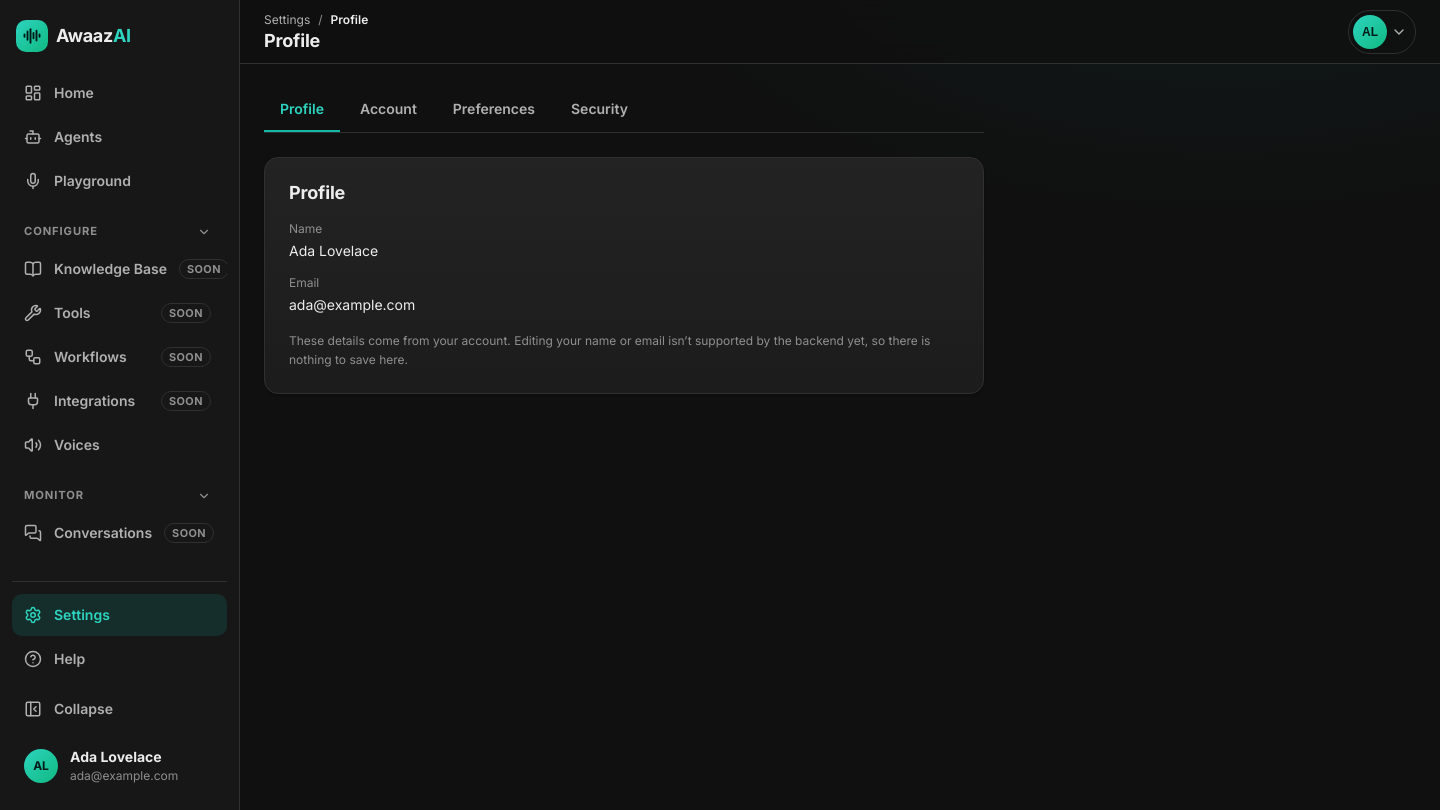
Test: settings › has Profile, Account, Preferences and Security pages reachable from the sub-navigation
The width and height of the screenshot is (1440, 810).
Click the link "Account" at (388, 109), box x1=360 y1=100 x2=417 y2=117
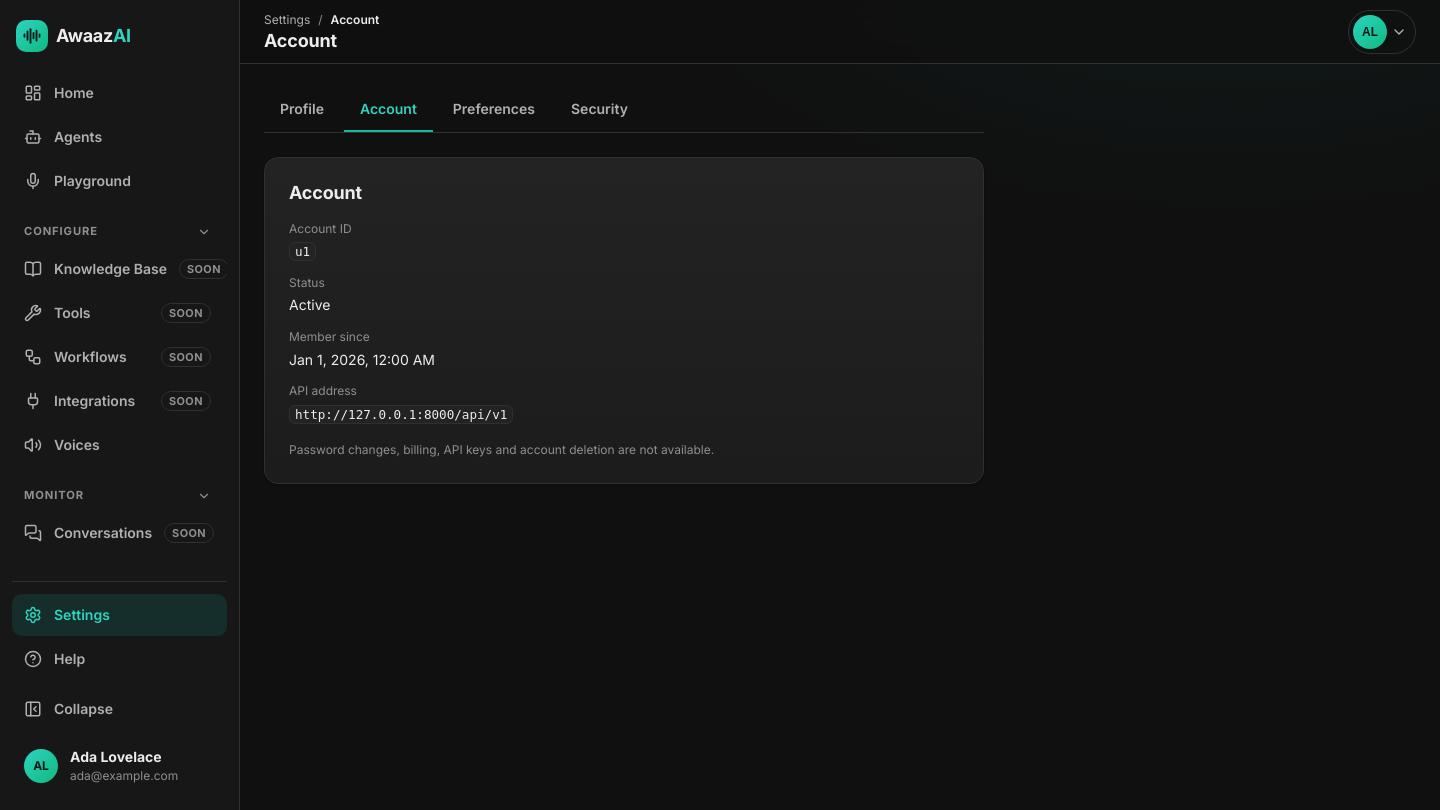
Check: the 1st heading "Account" is shown, box x1=264 y1=30 x2=337 y2=51
Click the link "Preferences" at (494, 109), box x1=453 y1=100 x2=535 y2=117
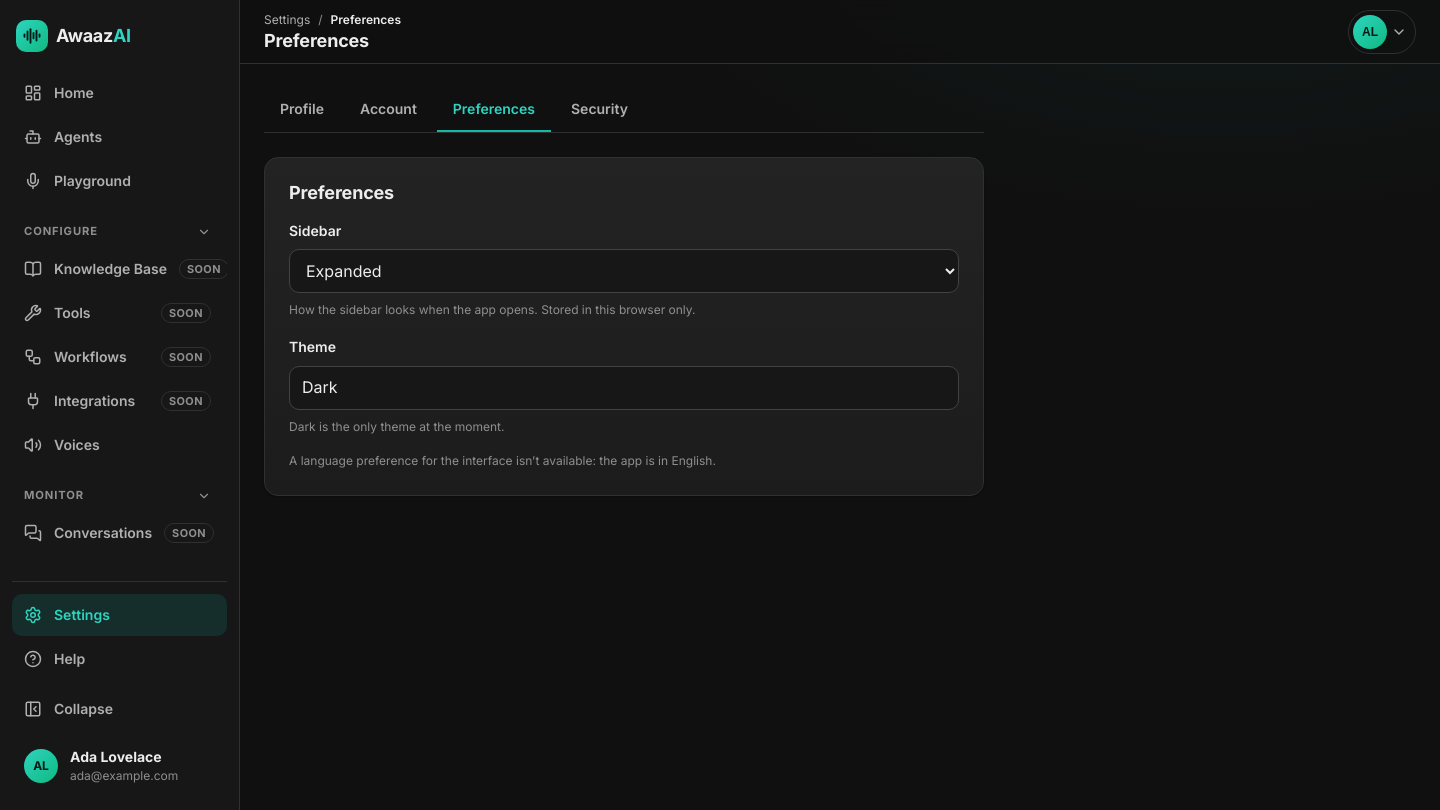
Check: the 1st heading "Preferences" is shown, box x1=264 y1=30 x2=369 y2=51
Click the link "Security" at (599, 109), box x1=571 y1=100 x2=628 y2=117
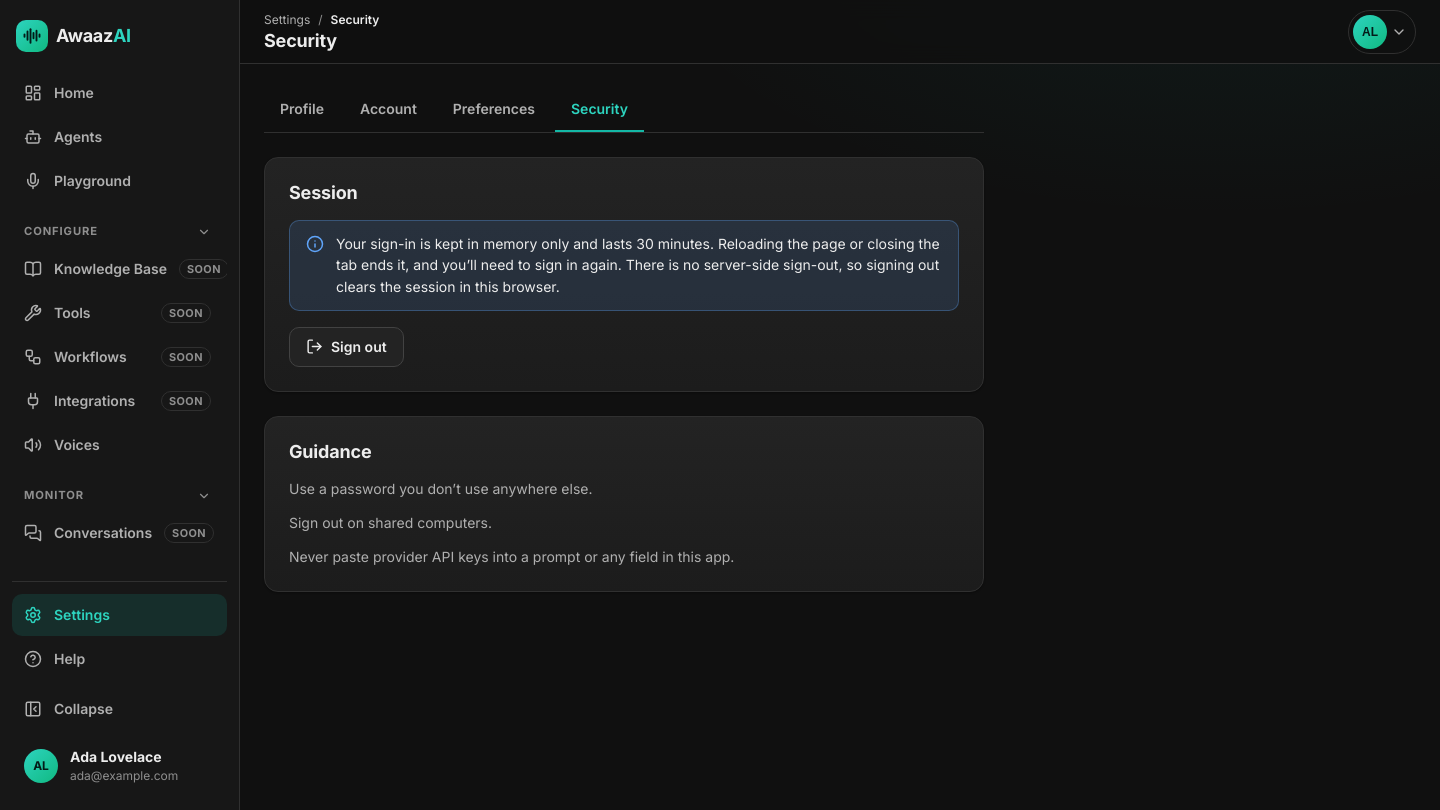
Check: the heading "Security" is shown, box x1=264 y1=30 x2=337 y2=51
Click the link "Profile" at (302, 109), box x1=280 y1=100 x2=324 y2=117
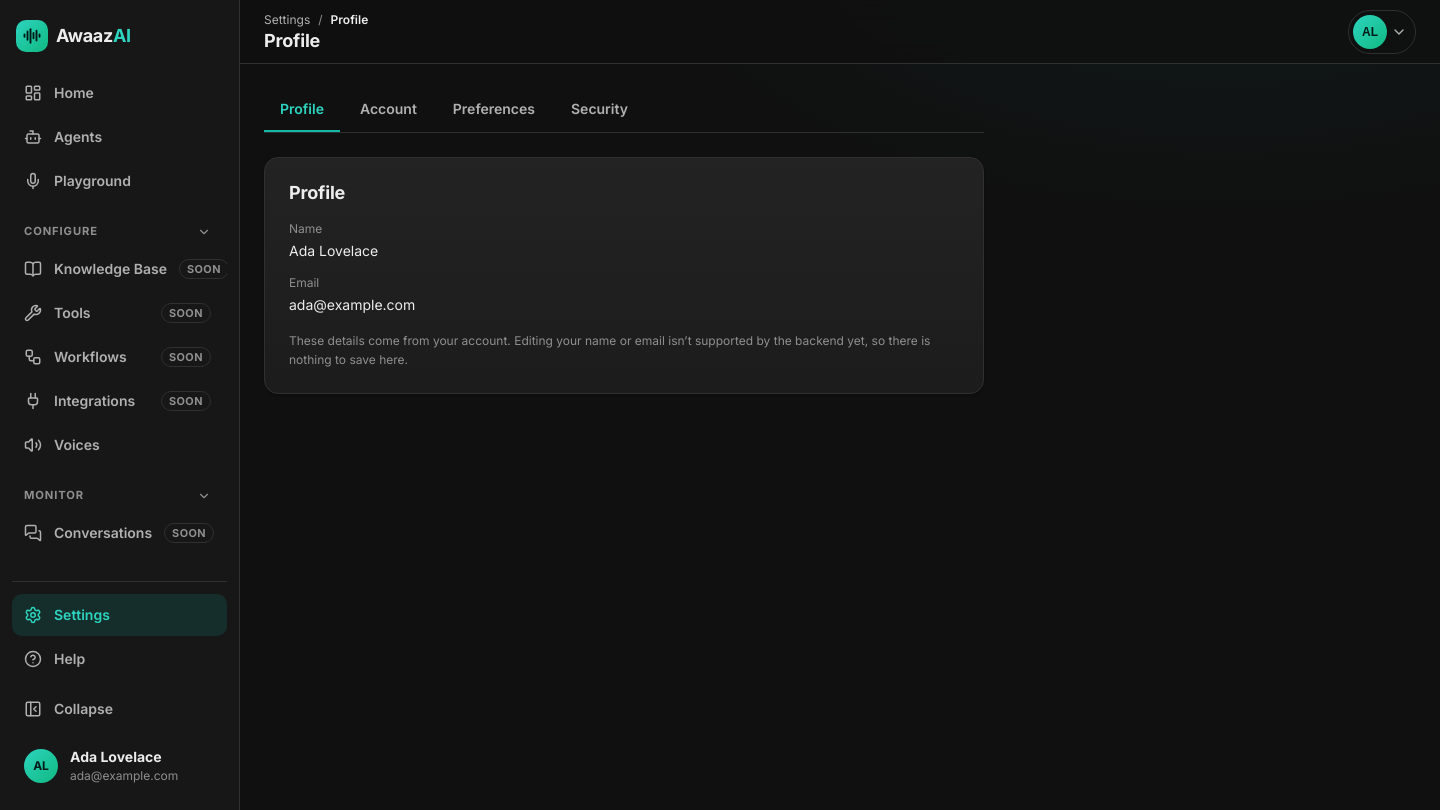
Check: the 1st heading "Profile" is shown, box x1=264 y1=30 x2=320 y2=51
